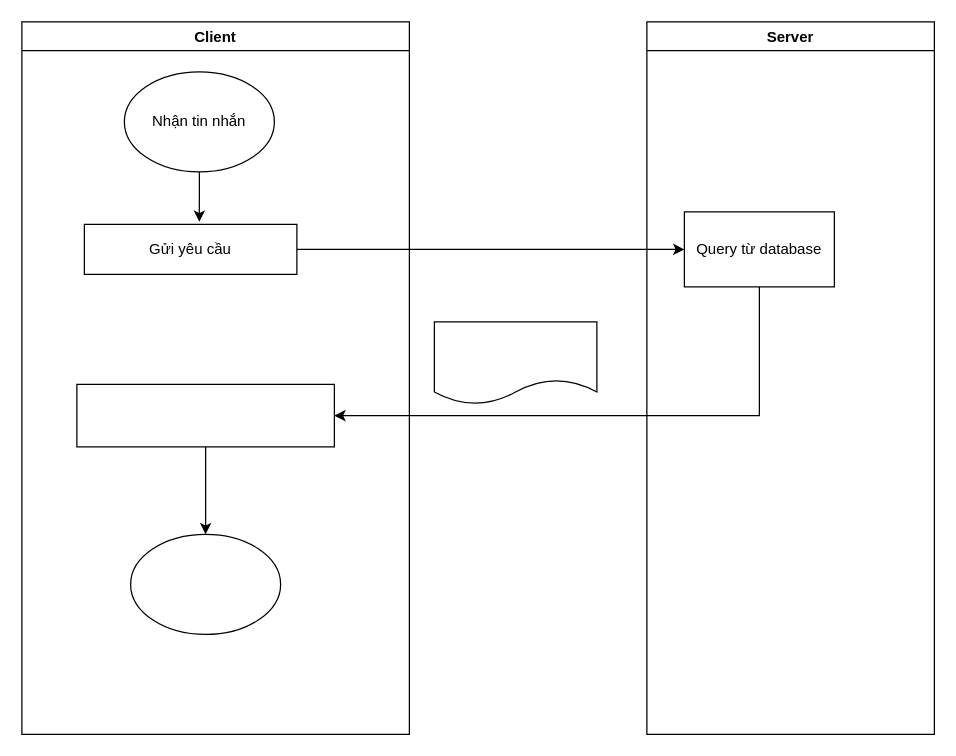
The diagram is 956 pixels wide and 756 high, and some of its shapes have lost their labels. The box of each missing label's shape, as (x1, y1, x2, y2) in pixels:
Giải mã tin nhắn bằng private key: (76, 383, 334, 447)
Kết thúc: (129, 533, 281, 634)
Tin nhắn mã hoá: (433, 321, 597, 404)
